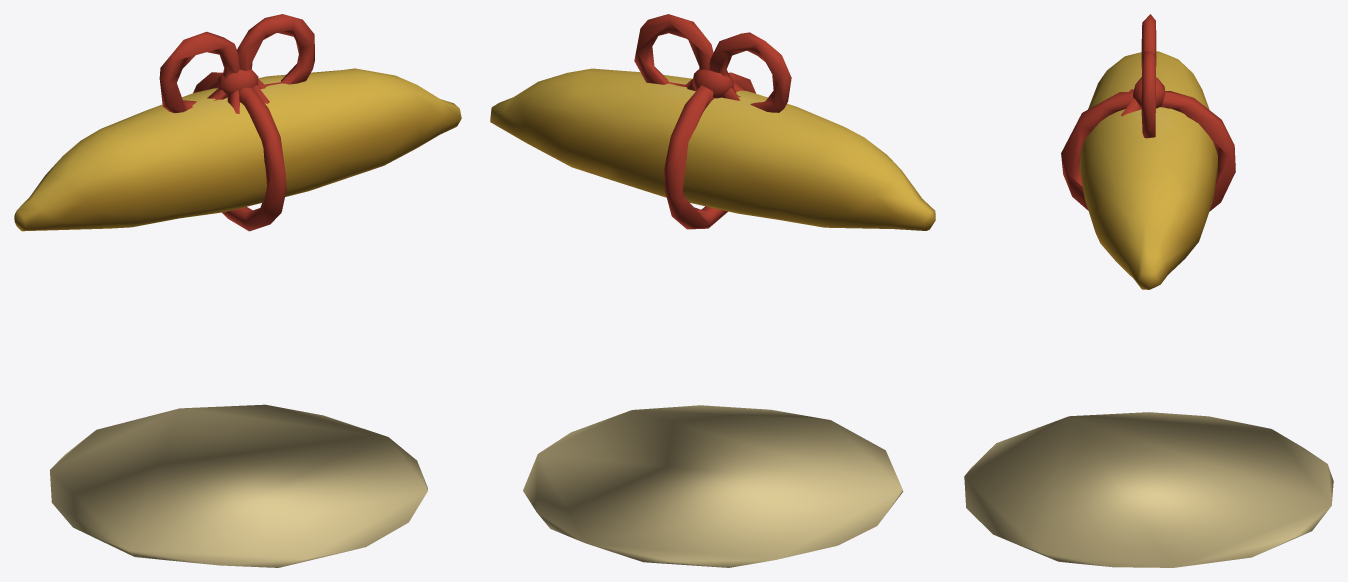
File: tem.glb
The picture shows the model from 3 angles, left to right: view 1: azimuth 30°, elevation 25°; view 2: azimuth 150°, elevation 25°; view 3: azimuth 270°, elevation 25°; orthographic projection.
Visible parts, largest first — view 1: tem; view 2: tem; view 3: tem.
Part boxes in pixels (left/top/right/bottom): tem: left=14, top=14, right=461, bottom=567; tem: left=490, top=14, right=935, bottom=567; tem: left=964, top=14, right=1333, bottom=567.
Bounding box in the file's own units: 0.1905 × 0.1896 × 0.1392.
